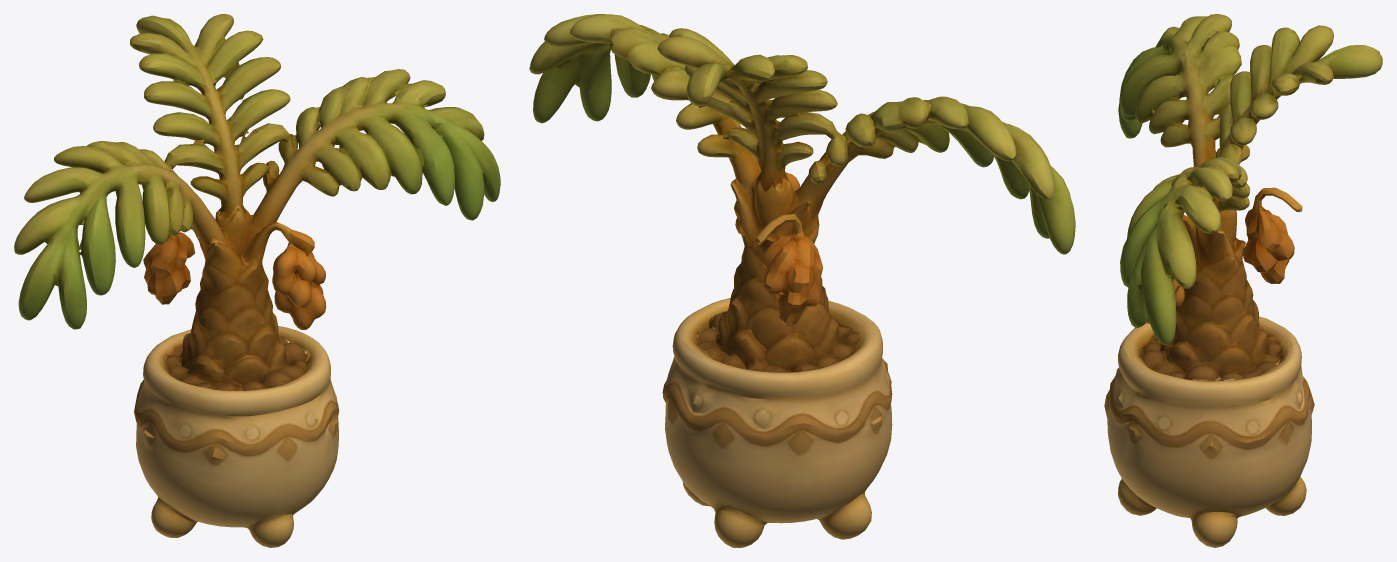
File: Meshy_AI_model.glb
3 renders of one model, left to right at view 1: azimuth 30°, elevation 25°; view 2: azimuth 150°, elevation 25°; view 3: azimuth 270°, elevation 25°, orthographic. The views are drawn at different scales.
Parts seen in each view (by area): view 1: Mesh0; view 2: Mesh0; view 3: Mesh0.
Part boxes in pixels (x1=…): Mesh0: x1=14, y1=14, x2=500, y2=547; Mesh0: x1=529, y1=14, x2=1075, y2=547; Mesh0: x1=1104, y1=14, x2=1382, y2=547.
Size of the model in its own units: 1.9 by 1.74 by 0.9324.
Materials: 1 (1 with a texture image).
